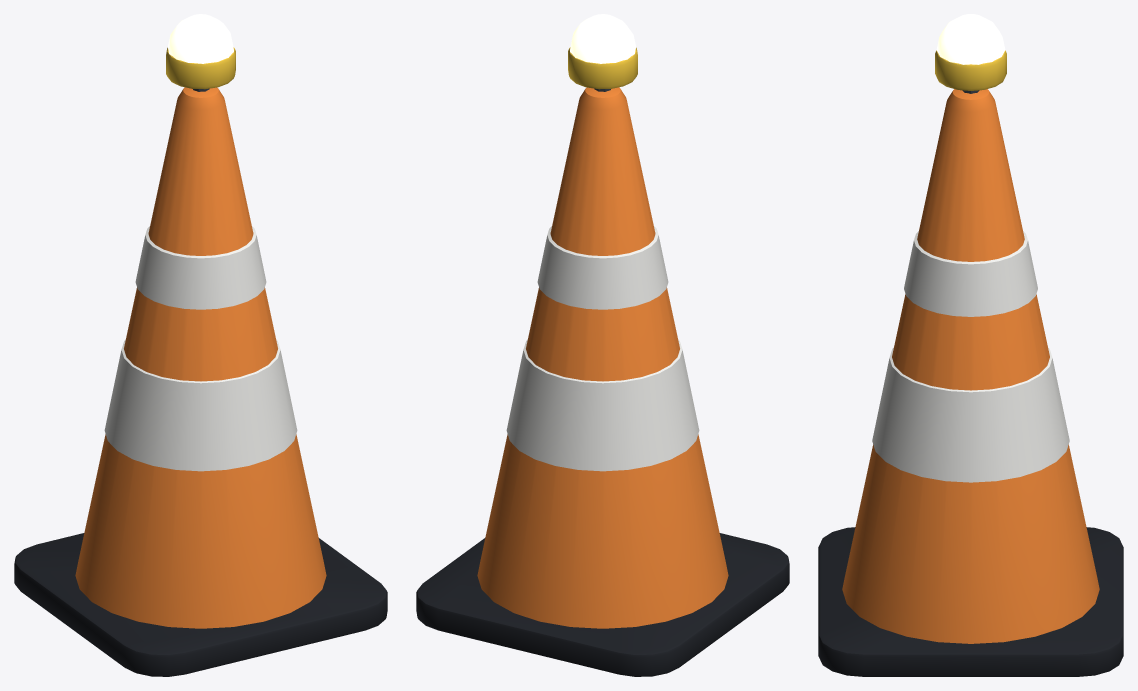
Rendered from cone_transito_pisca.glb.
3 views of the same model, side by side, from view 1: azimuth 30°, elevation 25°; view 2: azimuth 150°, elevation 25°; view 3: azimuth 270°, elevation 25° (orthographic). The views are drawn at different scales.
Visible parts, largest first — view 1: cone_transito_pisca, lampada_pisca; view 2: cone_transito_pisca, lampada_pisca; view 3: cone_transito_pisca, lampada_pisca.
Part boxes in pixels (box(x1,y1,x2,y2)): cone_transito_pisca: box(14, 47, 387, 676); lampada_pisca: box(168, 14, 233, 63); cone_transito_pisca: box(416, 47, 789, 676); lampada_pisca: box(570, 14, 635, 63); cone_transito_pisca: box(818, 50, 1123, 676); lampada_pisca: box(936, 14, 1005, 64).
Size of the model in its own units: 0.4 by 0.8627 by 0.4.
Materials: 2 (1 with a texture image).
